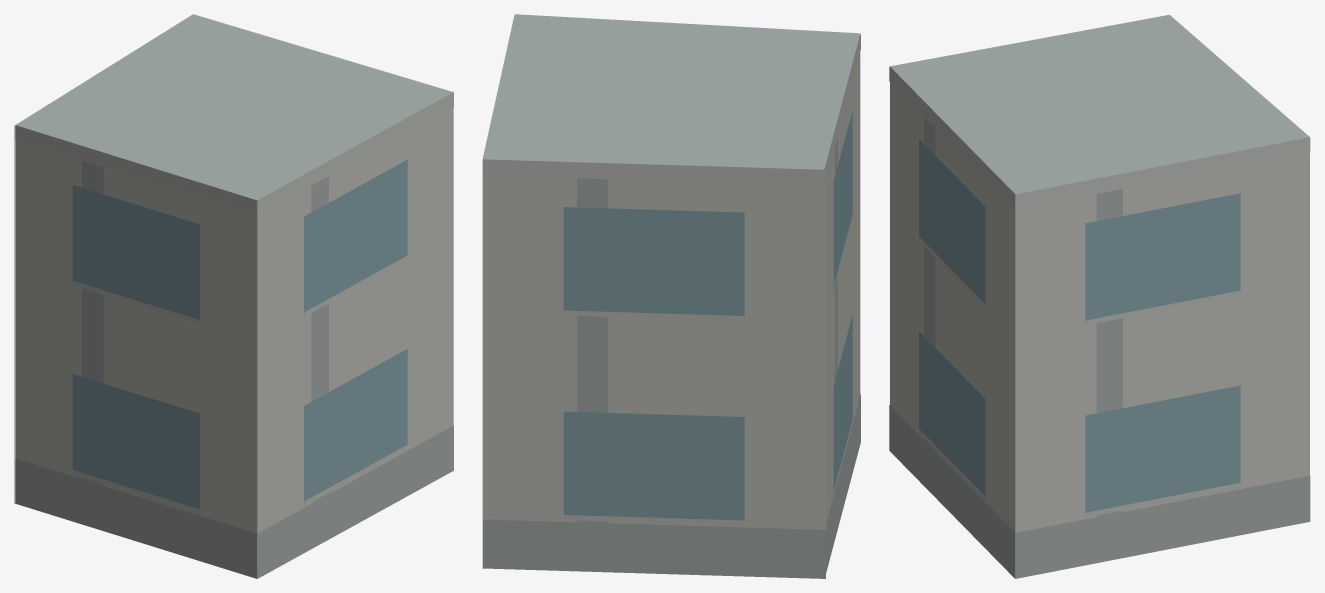
File: survey-upis-32699276.glb
3 views of the same model, side by side, from view 1: azimuth 30°, elevation 25°; view 2: azimuth 150°, elevation 25°; view 3: azimuth 270°, elevation 25° (orthographic). The views are drawn at different scales.
Visible parts, largest first — view 1: survey-upis-32699276.tmp; view 2: survey-upis-32699276.tmp; view 3: survey-upis-32699276.tmp.
Boxes of the visible parts, box(x1,y1,x2,y2) form: survey-upis-32699276.tmp: box(14, 14, 453, 578); survey-upis-32699276.tmp: box(482, 14, 860, 578); survey-upis-32699276.tmp: box(889, 14, 1310, 578).
Size of the model in its own units: 6.14 by 6.1 by 6.05.
